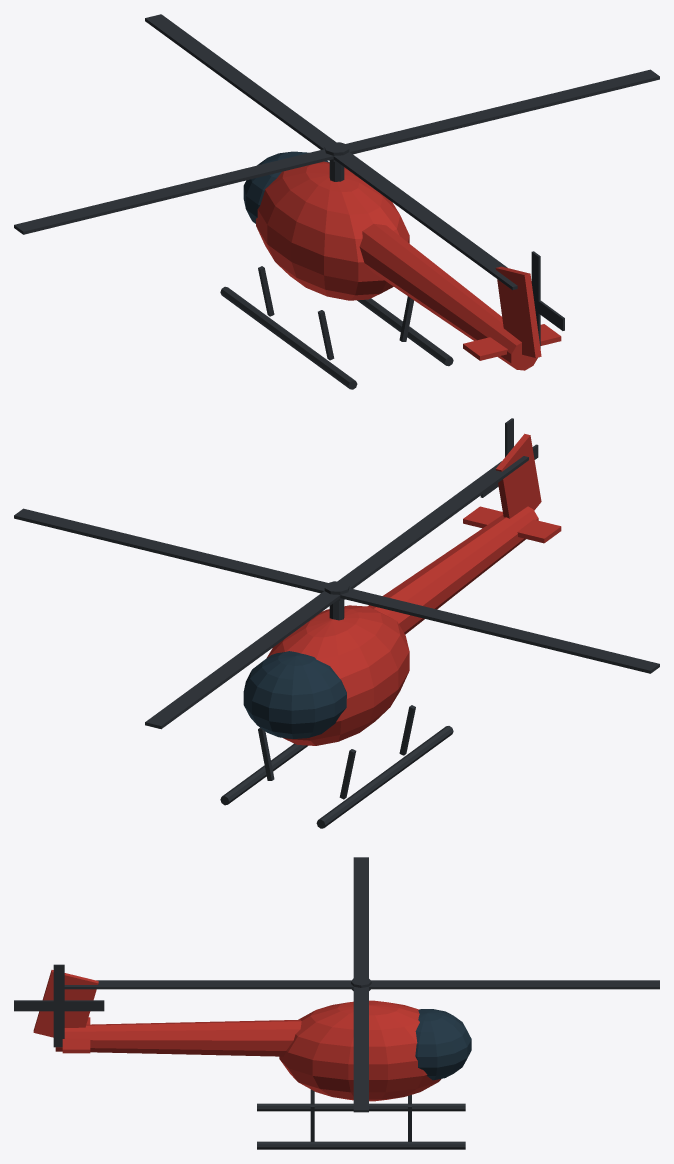
File: helicopter.glb
The picture shows the model from 3 angles, top to bottom: view 1: azimuth 30°, elevation 25°; view 2: azimuth 150°, elevation 25°; view 3: azimuth 270°, elevation 25°; orthographic projection. The views are drawn at different scales.
Visible parts, largest first — view 1: CLHelicopter, CLHelicopter_box_067, CLHelicopter_box_066, CLHelicopter_box_068; view 2: CLHelicopter, CLHelicopter_box_067, CLHelicopter_box_066; view 3: CLHelicopter, CLHelicopter_box_066, CLHelicopter_box_067, CLHelicopter_box_069, CLHelicopter_box_068.
Boxes of the visible parts, x1,y1,x2,y2 form: CLHelicopter: (220,151,561,389); CLHelicopter_box_067: (14,69,659,234); CLHelicopter_box_066: (145,14,517,290); CLHelicopter_box_068: (531,251,540,357); CLHelicopter: (220,433,561,828); CLHelicopter_box_067: (14,508,659,673); CLHelicopter_box_066: (145,456,528,729); CLHelicopter: (33,970,471,1149); CLHelicopter_box_066: (64,980,659,989); CLHelicopter_box_067: (353,857,368,1112); CLHelicopter_box_069: (14,1000,104,1011); CLHelicopter_box_068: (53,964,64,1047).
Bounding box in the file's own units: 8.6 × 2.71 × 9.3.
